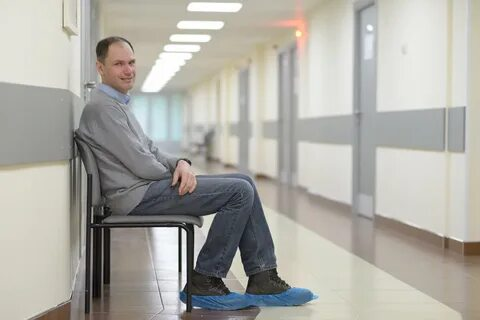awake: (79, 36, 314, 310)
